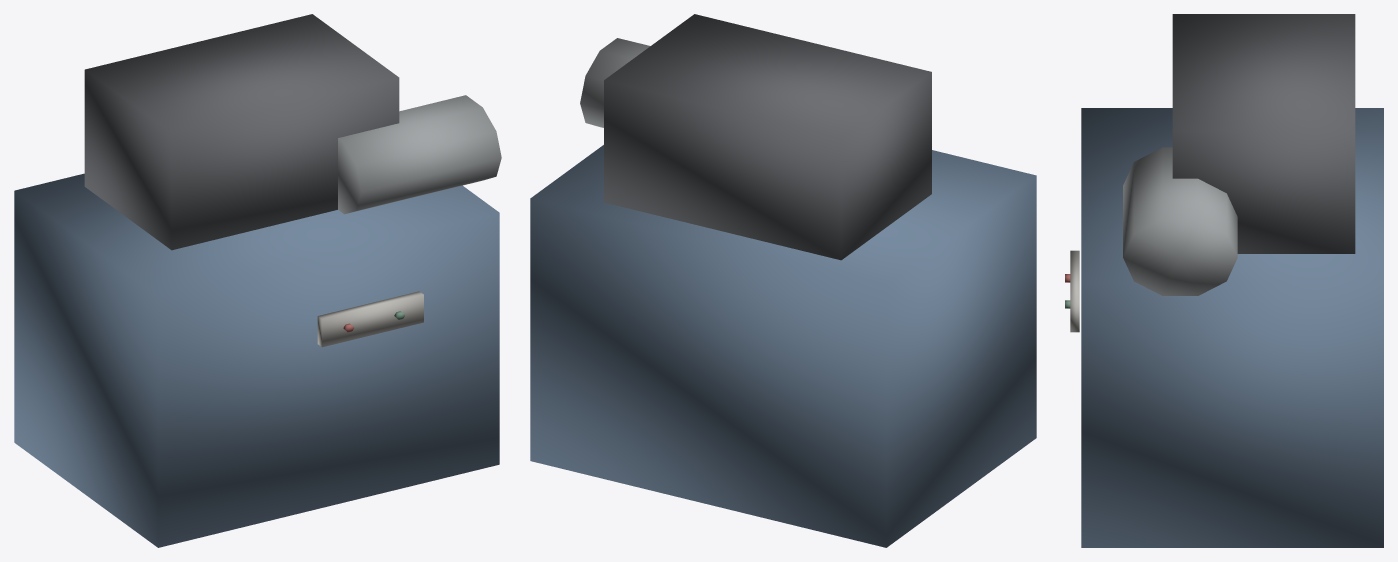
The model's file is rolling_tool_chest__squat.glb.
The picture shows the model from 3 angles, left to right: view 1: azimuth 30°, elevation 25°; view 2: azimuth 150°, elevation 25°; view 3: azimuth 270°, elevation 25°; orthographic projection. The views are drawn at different scales.
Parts seen in each view (by area): view 1: world; view 2: world; view 3: world.
Boxes of the visible parts, x1=… form: world: x1=14, y1=14, x2=501, y2=547; world: x1=530, y1=14, x2=1036, y2=547; world: x1=1065, y1=14, x2=1383, y2=547.
Size of the model in its own units: 0.913 by 0.8862 by 0.6599.
